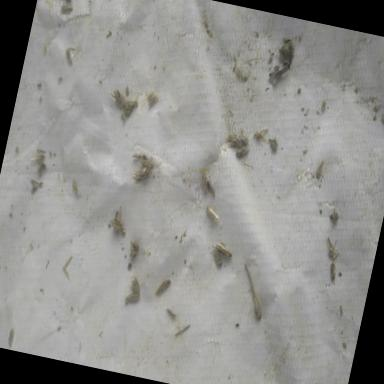pbw: (209, 237, 235, 260), (252, 124, 272, 145), (154, 276, 172, 298), (322, 236, 338, 258), (208, 248, 225, 268), (198, 172, 212, 195), (128, 276, 143, 296), (122, 290, 140, 306), (204, 178, 218, 198), (234, 142, 249, 160), (204, 204, 220, 220), (327, 262, 337, 280), (164, 306, 177, 318), (237, 134, 249, 145)
